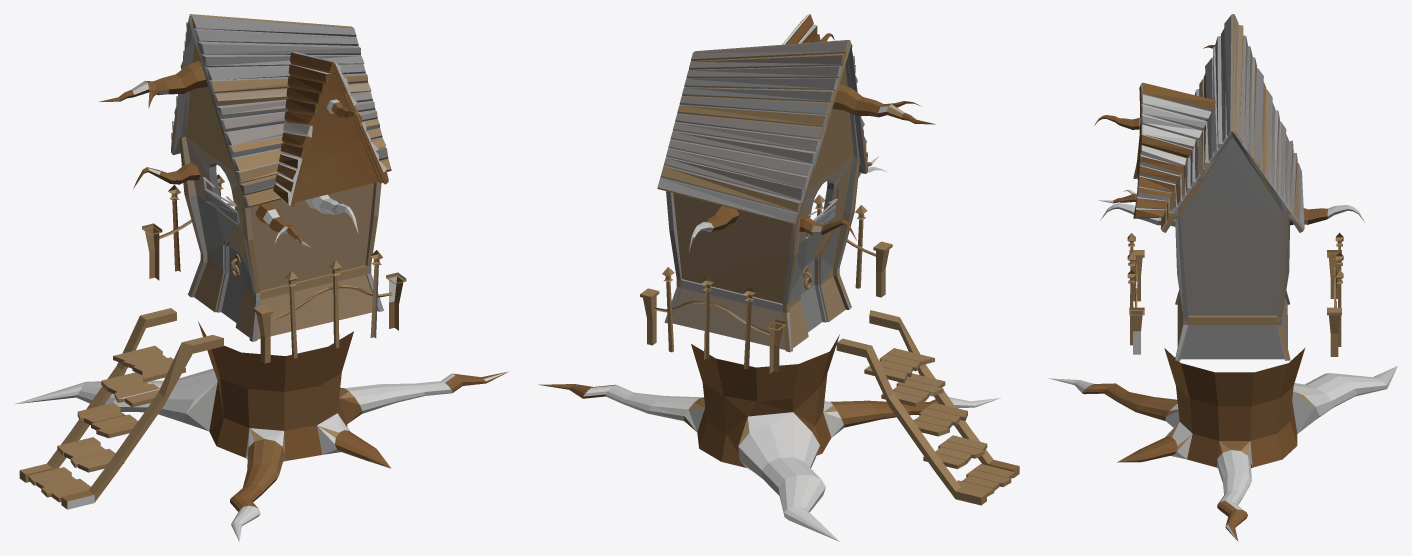
The model's file is casa-tronco.glb.
The picture shows the model from 3 angles, left to right: view 1: azimuth 30°, elevation 25°; view 2: azimuth 150°, elevation 25°; view 3: azimuth 270°, elevation 25°; orthographic projection. The views are drawn at different scales.
Visible parts, largest first — view 1: casa-tronco; view 2: casa-tronco; view 3: casa-tronco.
Boxes of the visible parts, x1,y1,x2,y2 form: casa-tronco: [14, 14, 509, 541]; casa-tronco: [538, 14, 1019, 541]; casa-tronco: [1048, 14, 1397, 541].
Bounding box in the file's own units: 1 × 0.8767 × 0.7128.
